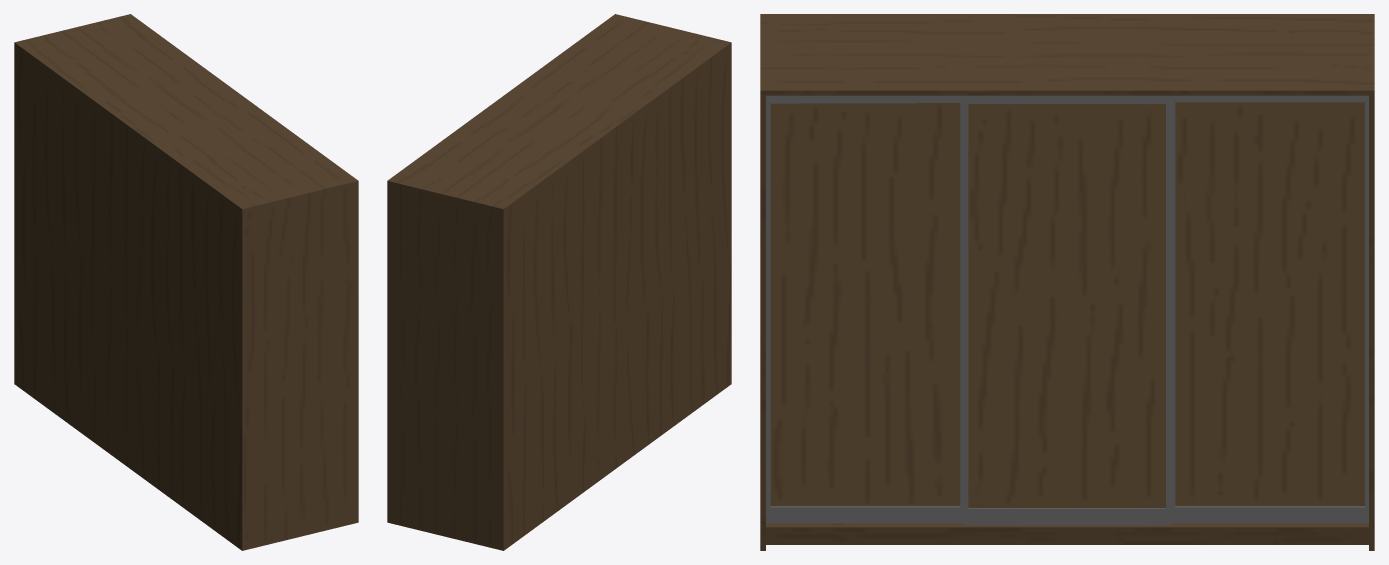
File: Closet.fbx
3 views of the same model, side by side, from view 1: azimuth 30°, elevation 25°; view 2: azimuth 150°, elevation 25°; view 3: azimuth 270°, elevation 25° (orthographic). The views are drawn at different scales.
Visible parts, largest first — view 1: closet.001; view 2: closet.001; view 3: closet.001.
Boxes of the visible parts, x1,y1,x2,y2 form: closet.001: (14,14,358,550); closet.001: (387,14,731,550); closet.001: (760,14,1374,550).
Bounding box in the file's own units: 79.68 × 224 × 270.
1 material, 1 textured.
